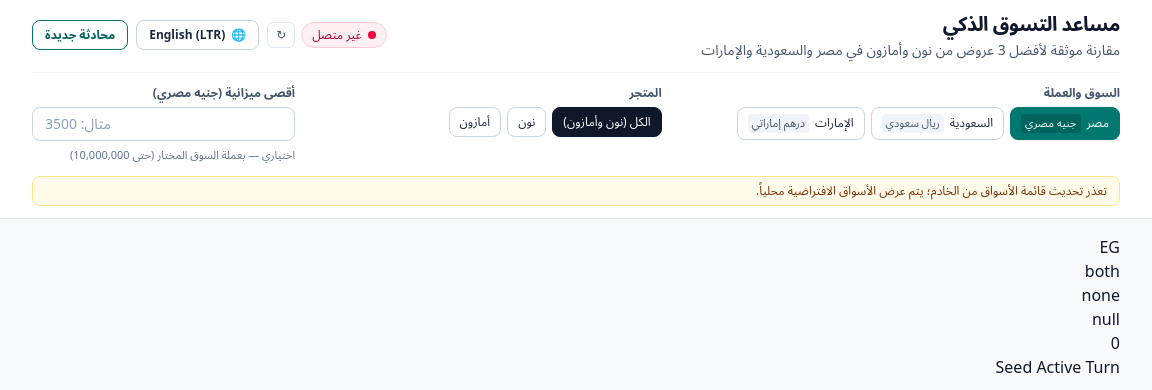
Scenario: AppShell & ShopSessionContext (integration) › recovers from corrupted localStorage, renders MARKET_REGISTRY_FALLBACK on 503, and flags invalid budget
Expected: the text "غير متصل" is shown, [312,27,362,43]
Expected: the text "تعذر تحديث قائمة الأسواق من الخادم؛ يتم عرض الأسواق الافتراضية محلياً." is shown, [32,176,1120,206]
Type "-50" into the field labelled "أقصى ميزانية (جنيه مصري)" at (164, 124), box [32,107,295,141]
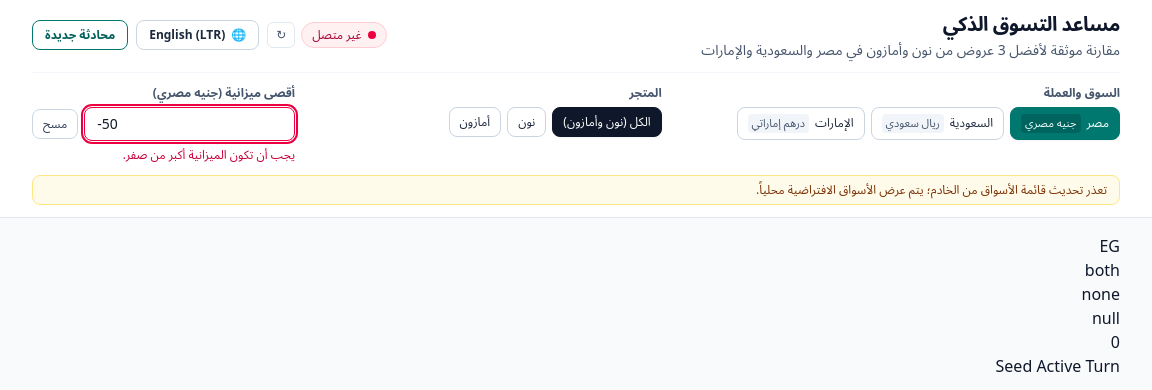
Expected: the message "يجب أن تكون الميزانية أكبر من صفر." is shown, [123,146,295,163]
Click the button "مسح" at (55, 124), box [32,109,78,139]
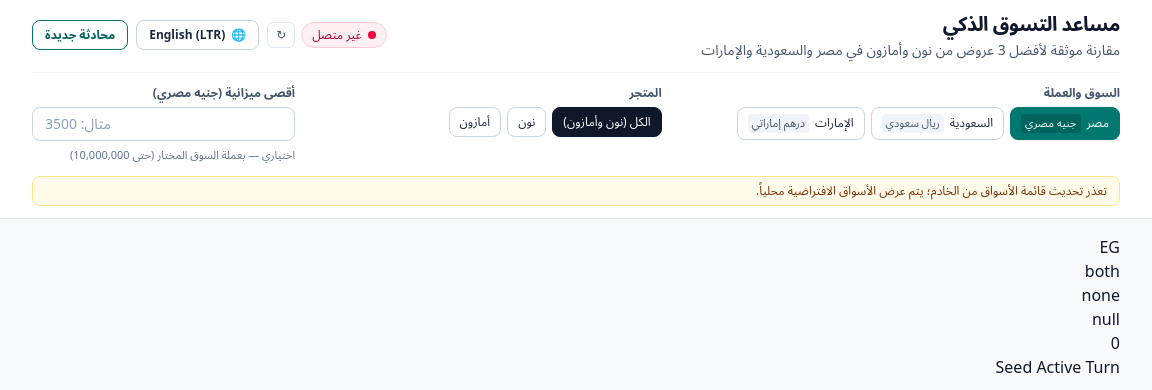
Expected: the field labelled "أقصى ميزانية (جنيه مصري)" is not marked as invalid, [32,107,295,141]
